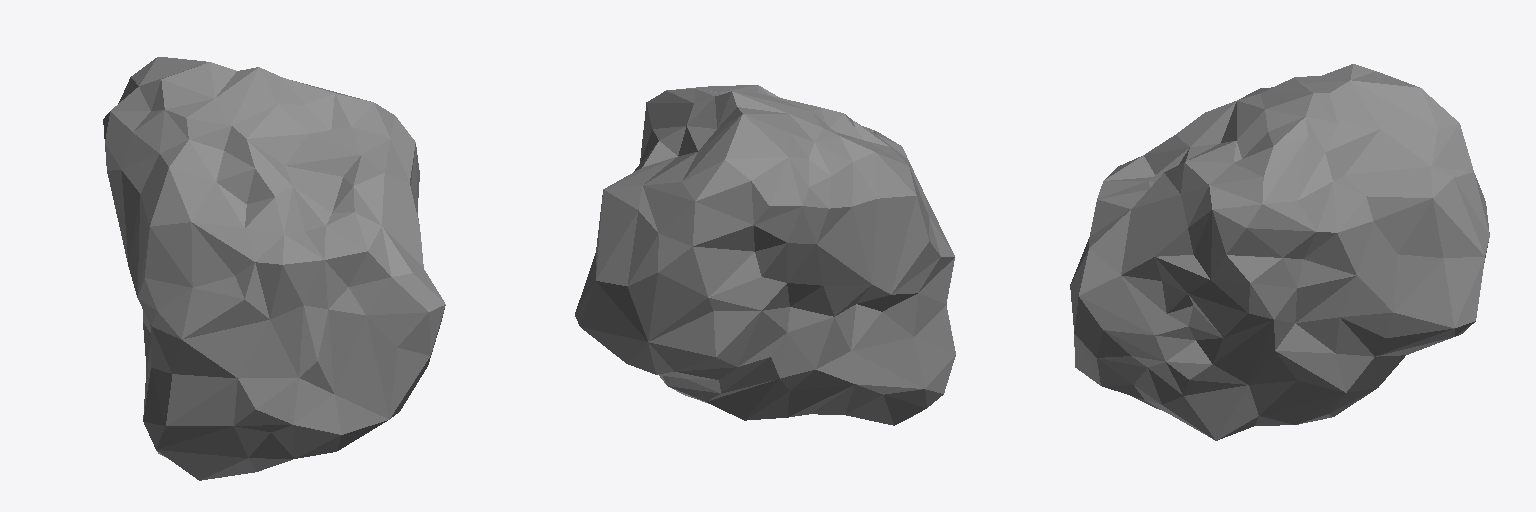
The model's file is Asteroid_10.obj.
3 views of the same model, side by side, from view 1: azimuth 30°, elevation 25°; view 2: azimuth 150°, elevation 25°; view 3: azimuth 270°, elevation 25° (orthographic).
Parts seen in each view (by area): view 1: Asteroid_10; view 2: Asteroid_10; view 3: Asteroid_10.
Part boxes in pixels (x1,y1,x2,y2): Asteroid_10: (103, 57, 445, 480); Asteroid_10: (575, 85, 955, 425); Asteroid_10: (1070, 64, 1489, 440).
Size of the model in its own units: 89.6 by 106 by 117.